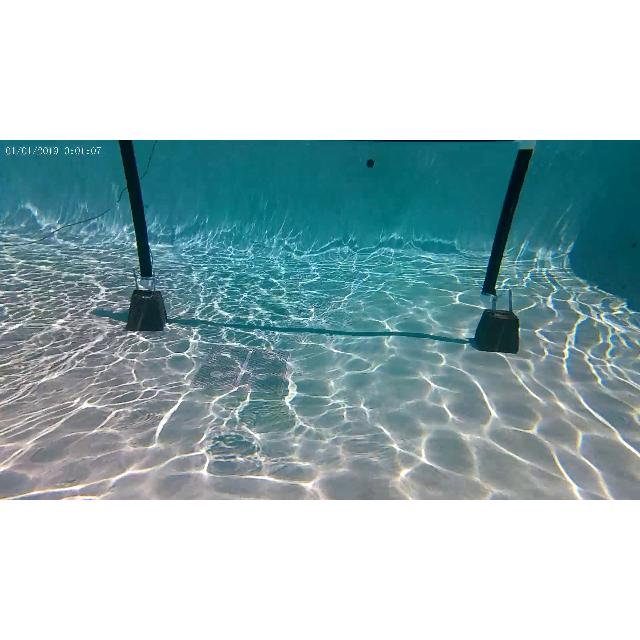prequal gate: (123, 140, 537, 302)
prequal gate leg l: (118, 140, 162, 288)
prequal gate leg r: (479, 140, 535, 300)
